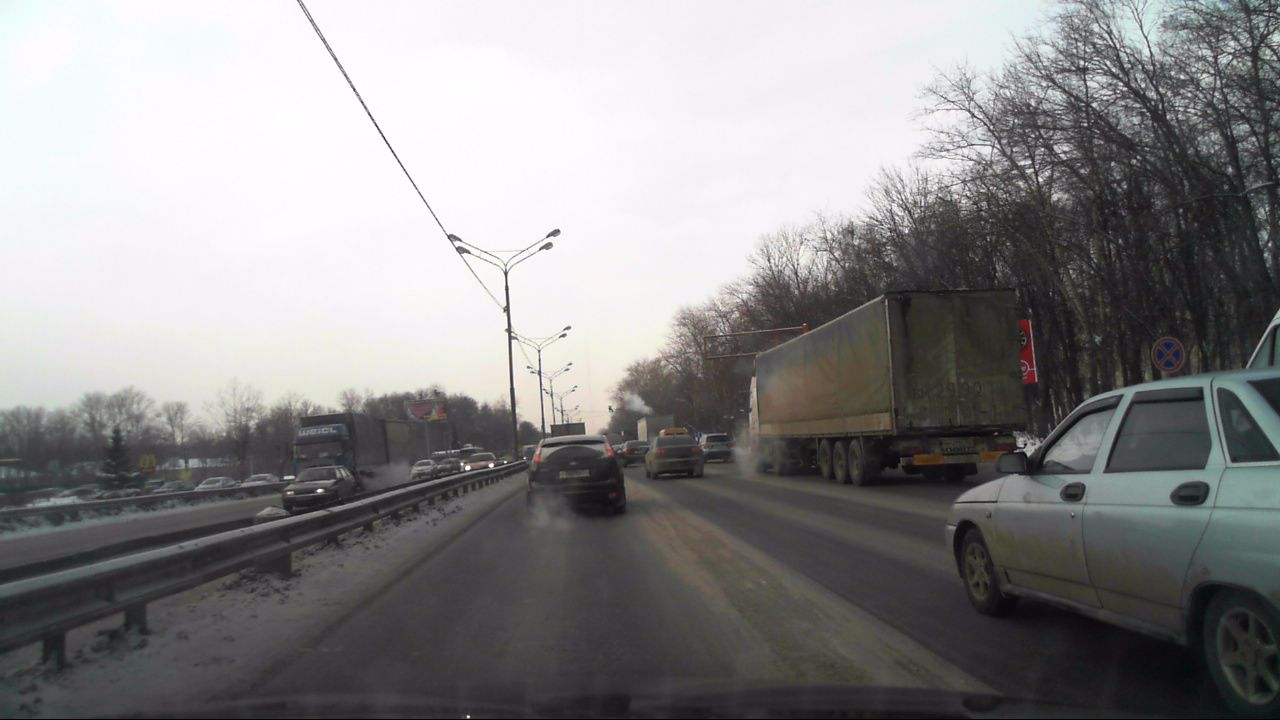No Parking: (1150, 335, 1186, 373)
